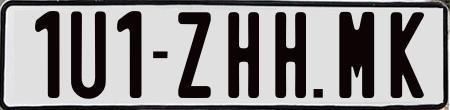1: (114, 9, 144, 96), (32, 9, 60, 96)
H: (272, 9, 308, 101), (227, 9, 258, 96)
K: (390, 10, 429, 99)
M: (338, 10, 375, 100)
U: (68, 11, 103, 100)
Z: (176, 12, 212, 99)
